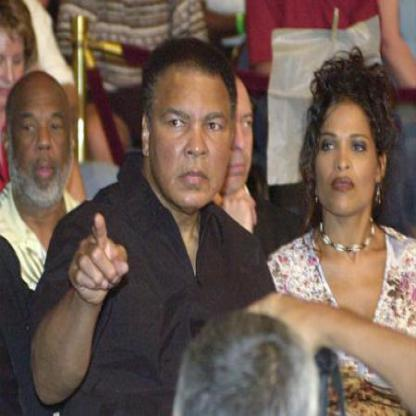face: (150, 42, 238, 211), (314, 78, 380, 219), (10, 72, 75, 203), (200, 64, 260, 198), (1, 1, 31, 110)
